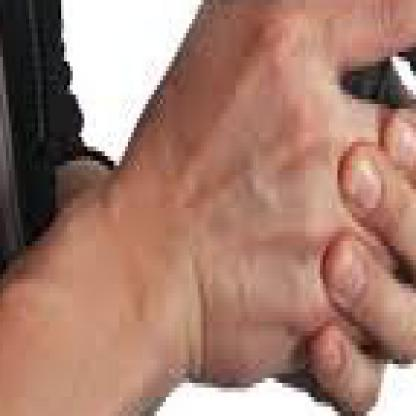gun: (212, 0, 413, 412)
